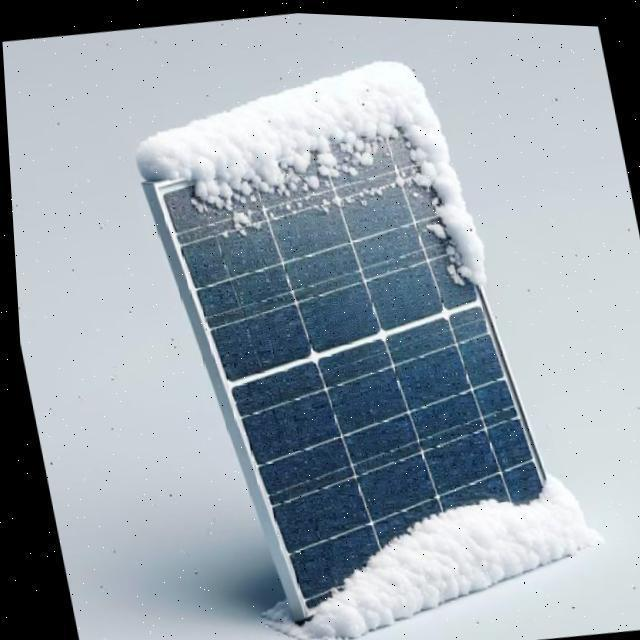Anomaly Solar Panel: (155, 106, 575, 616)
Snow: (129, 48, 496, 355), (271, 464, 574, 634)
